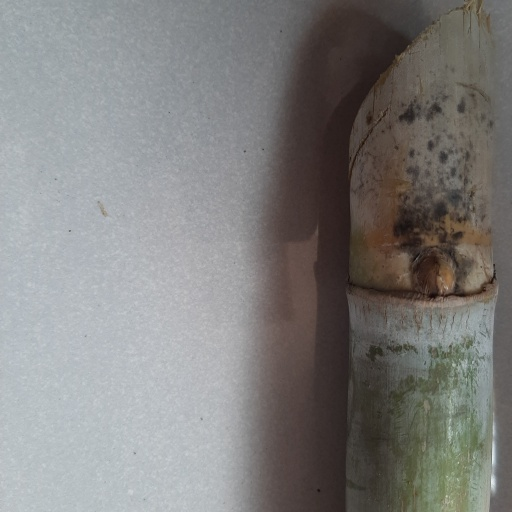Bud: (409, 247, 459, 297)
